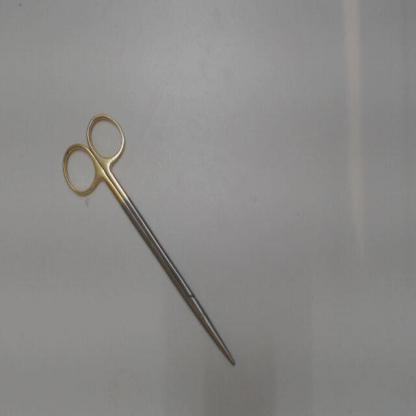7 Metzenbaum Scissors: (58, 106, 239, 371)
